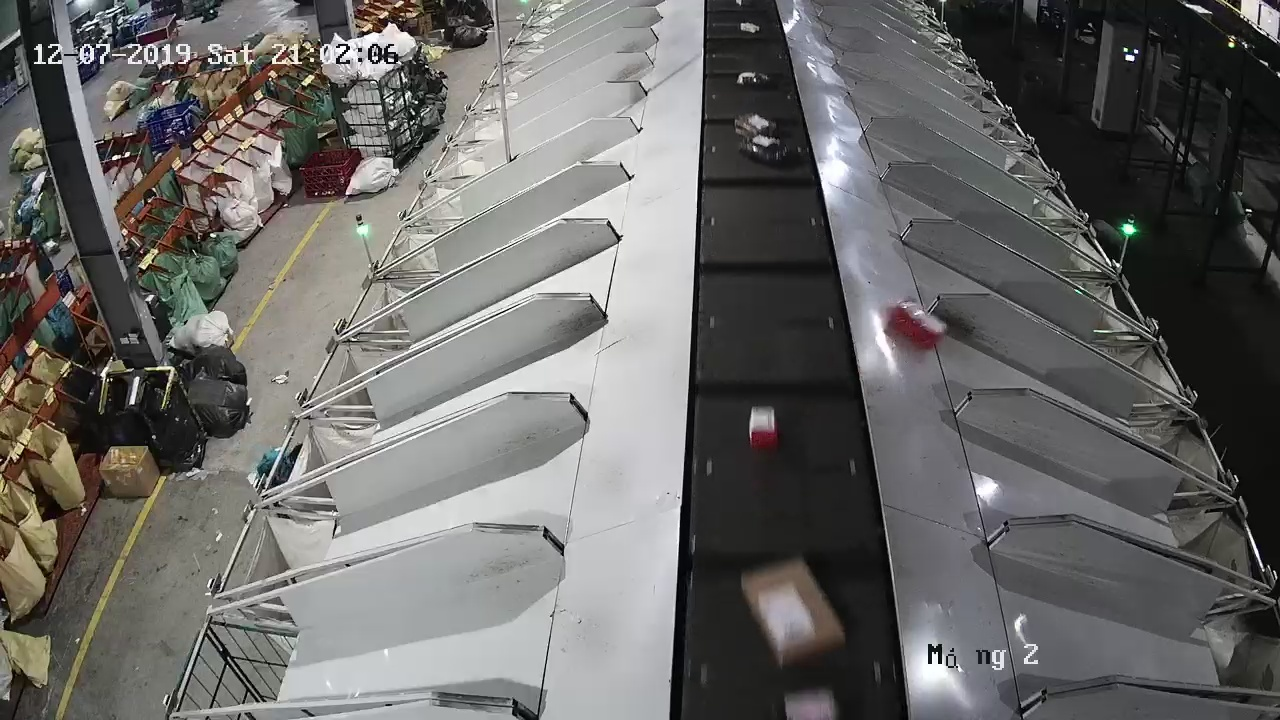parcel: (890, 297, 948, 348)
